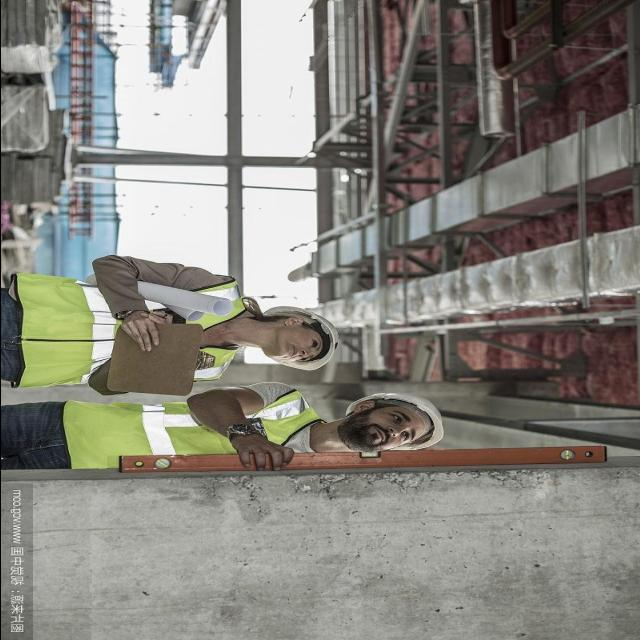helmet: (347, 388, 453, 452), (264, 298, 346, 370)
